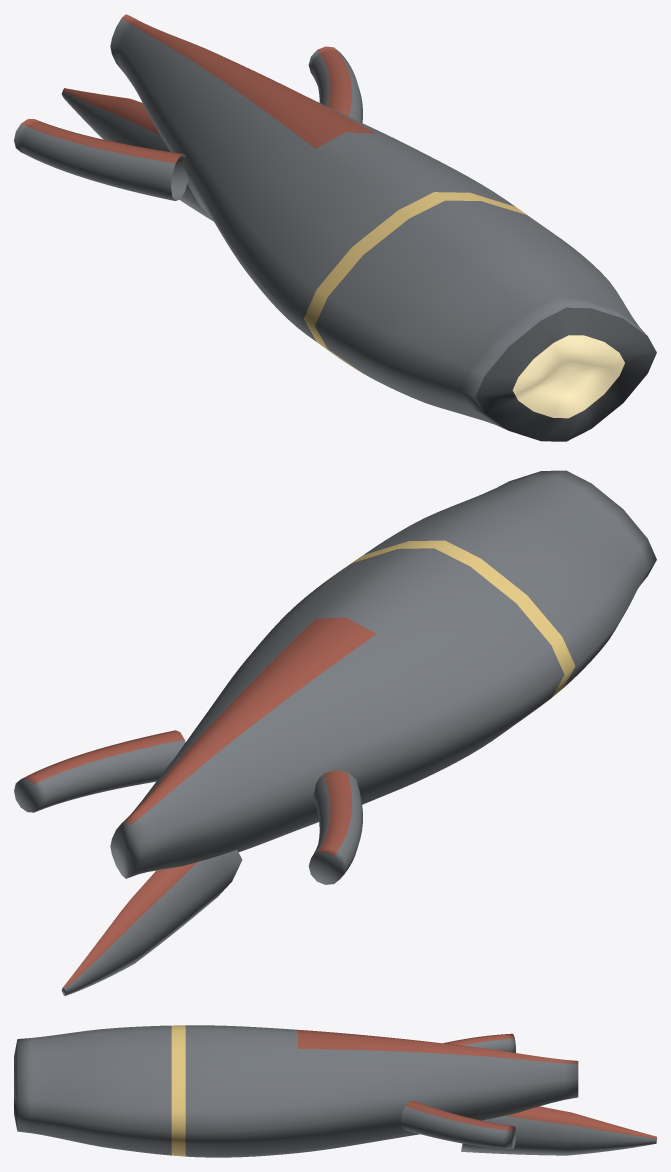
The model's file is redtithe_dd.glb.
3 renders of one model, top to bottom at view 1: azimuth 30°, elevation 25°; view 2: azimuth 150°, elevation 25°; view 3: azimuth 270°, elevation 25°, orthographic. The views are drawn at different scales.
Parts seen in each view (by area): view 1: hull_mesh, limb_1_mesh, limb_0_mesh, limb_1_port_mesh; view 2: hull_mesh, limb_0_mesh, limb_1_port_mesh, limb_1_mesh; view 3: hull_mesh, limb_0_mesh, limb_1_port_mesh, limb_1_mesh.
Boxes of the visible parts, <box> form: hull_mesh: <box>110,14,656,441</box>; limb_1_mesh: <box>14,119,188,200</box>; limb_0_mesh: <box>61,88,213,221</box>; limb_1_port_mesh: <box>308,46,362,122</box>; hull_mesh: <box>110,470,656,878</box>; limb_0_mesh: <box>61,850,242,996</box>; limb_1_port_mesh: <box>14,730,185,812</box>; limb_1_mesh: <box>308,770,362,884</box>; hull_mesh: <box>14,1025,578,1157</box>; limb_0_mesh: <box>461,1106,656,1155</box>; limb_1_port_mesh: <box>400,1101,515,1148</box>; limb_1_mesh: <box>443,1033,515,1052</box>.
Size of the model in its own units: 35.34 by 20.19 by 94.
